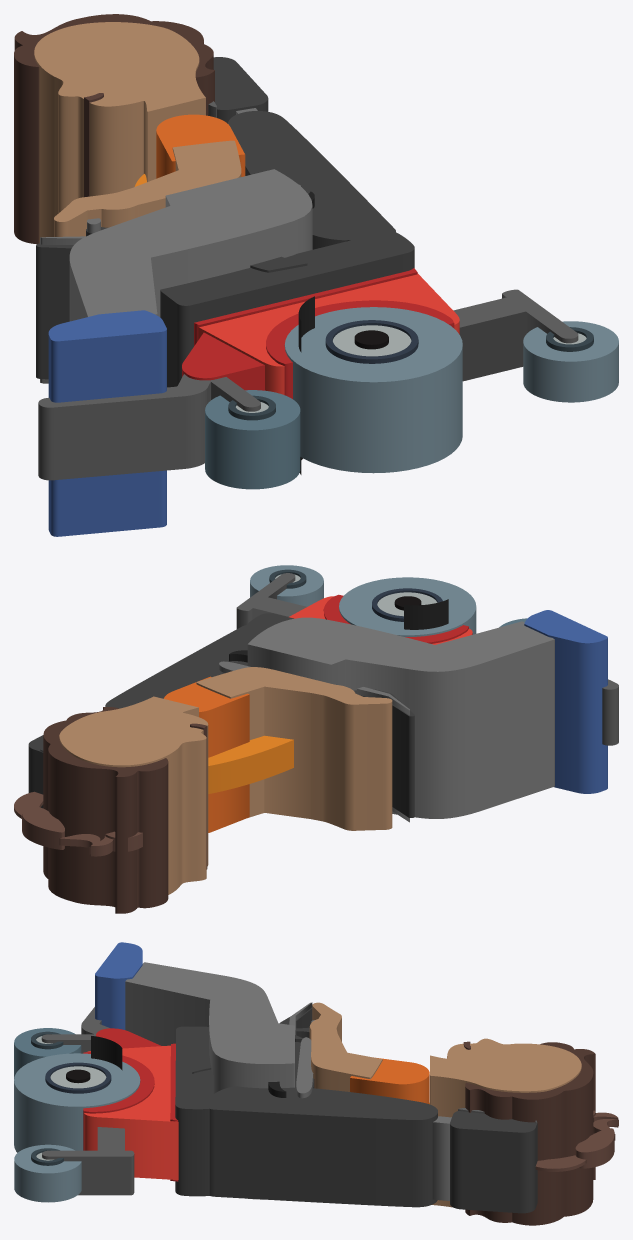
The model's file is emoji_u1f9d1_1f3fd_200d_1f9bc.glb.
3 renders of one model, top to bottom at view 1: azimuth 30°, elevation 25°; view 2: azimuth 150°, elevation 25°; view 3: azimuth 270°, elevation 25°, orthographic. The views are drawn at different scales.
Parts seen in each view (by area): view 1: emoji_u1f9d1_1f3fd_200d_1f9bc; view 2: emoji_u1f9d1_1f3fd_200d_1f9bc; view 3: emoji_u1f9d1_1f3fd_200d_1f9bc.
Boxes of the visible parts, x1,y1,x2,y2 form: emoji_u1f9d1_1f3fd_200d_1f9bc: [14, 14, 618, 536]; emoji_u1f9d1_1f3fd_200d_1f9bc: [14, 565, 618, 913]; emoji_u1f9d1_1f3fd_200d_1f9bc: [14, 942, 618, 1225].
Size of the model in its own units: 0.024 by 0.0086 by 0.034.
